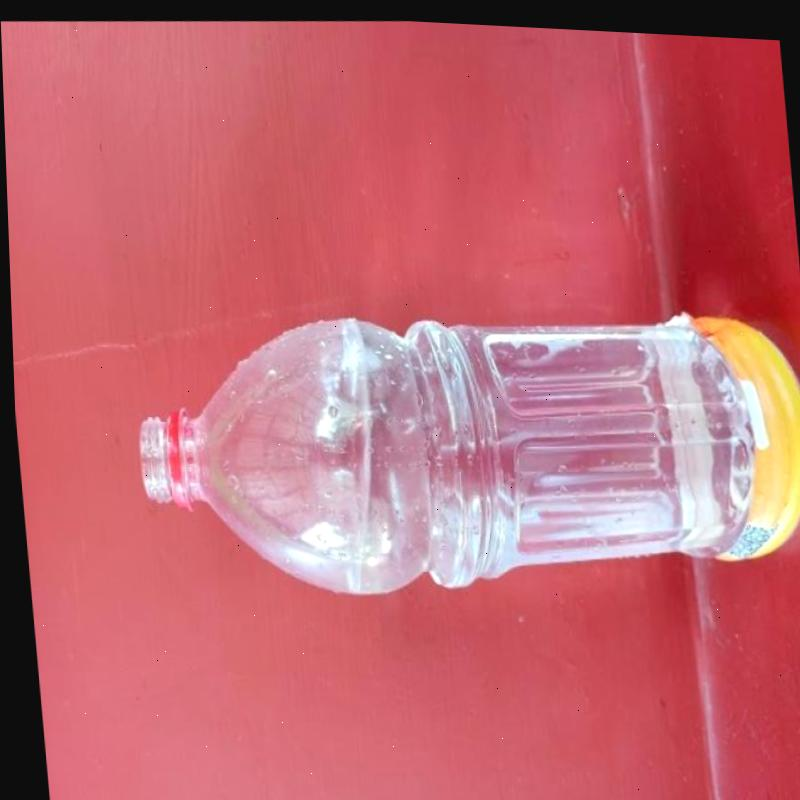botella: (120, 276, 800, 620)
